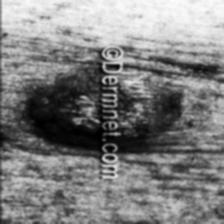Potentially Malignant Skin Tumors: (32, 63, 102, 153), (119, 70, 181, 148)
